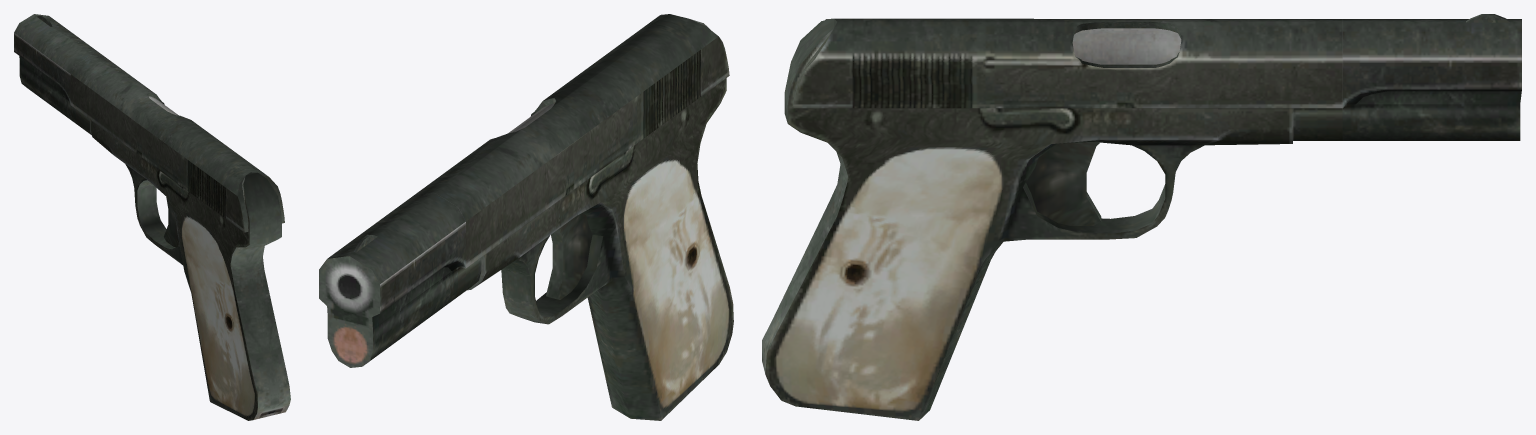
Rendered from High Power.fbx.
The picture shows the model from 3 angles, left to right: view 1: azimuth 30°, elevation 25°; view 2: azimuth 150°, elevation 25°; view 3: azimuth 270°, elevation 25°; orthographic projection. The views are drawn at different scales.
Visible parts, largest first — view 1: object1; view 2: object1; view 3: object1.
Part boxes in pixels (x1,y1,x2,y2): object1: (14, 14, 290, 420); object1: (319, 14, 733, 420); object1: (762, 14, 1521, 420).
Bounding box in the file's own units: 2.25 × 13.28 × 23.19.
Materials: 1 (1 with a texture image).
